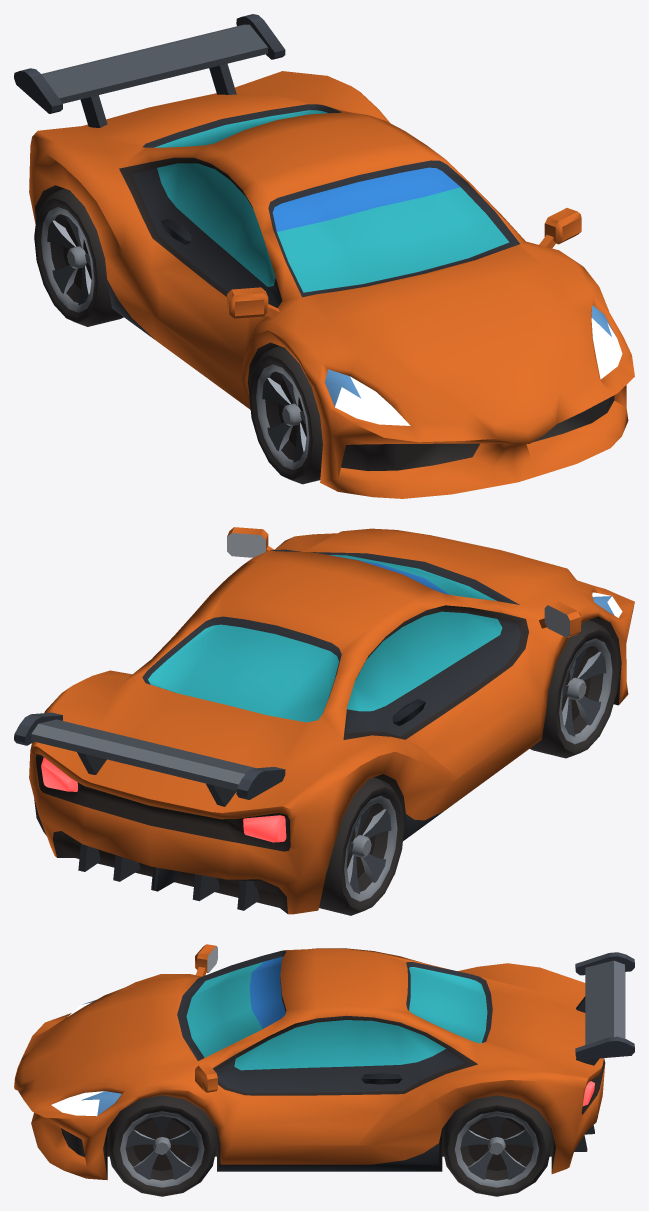
The model's file is car_13_pacote.glb.
3 renders of one model, top to bottom at view 1: azimuth 30°, elevation 25°; view 2: azimuth 150°, elevation 25°; view 3: azimuth 270°, elevation 25°, orthographic. The views are drawn at different scales.
Visible parts, largest first — view 1: car_13_pacote, roda_traseira_esq, roda_dianteira_esq; view 2: car_13_pacote, roda_traseira_esq, roda_dianteira_esq; view 3: car_13_pacote, roda_traseira_dir, roda_dianteira_dir.
Part boxes in pixels (bbox=[...]): car_13_pacote: bbox=[14, 14, 634, 498]; roda_traseira_esq: bbox=[34, 188, 123, 326]; roda_dianteira_esq: bbox=[249, 346, 322, 484]; car_13_pacote: bbox=[14, 527, 634, 914]; roda_traseira_esq: bbox=[319, 777, 404, 915]; roda_dianteira_esq: bbox=[530, 620, 619, 758]; car_13_pacote: bbox=[14, 944, 634, 1180]; roda_traseira_dir: bbox=[442, 1095, 551, 1196]; roda_dianteira_dir: bbox=[107, 1095, 216, 1196].
Size of the model in its own units: 2.08 by 1.23 by 4.09.
Materials: 4 (1 with a texture image).
